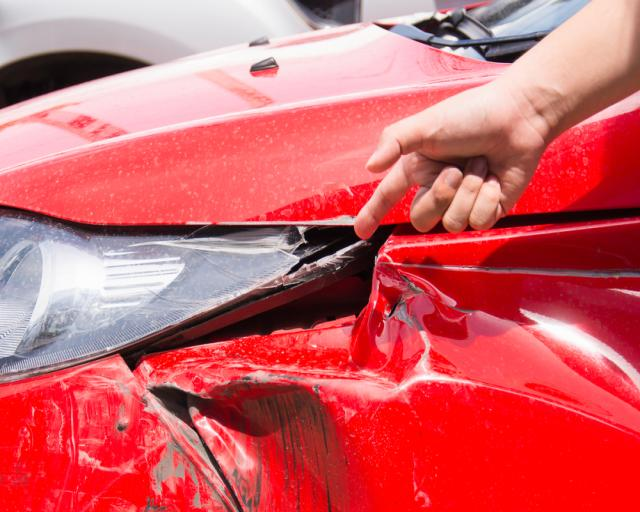dent: (149, 261, 640, 512)
lamp broken: (0, 208, 368, 384)
scratch: (24, 359, 226, 512)
